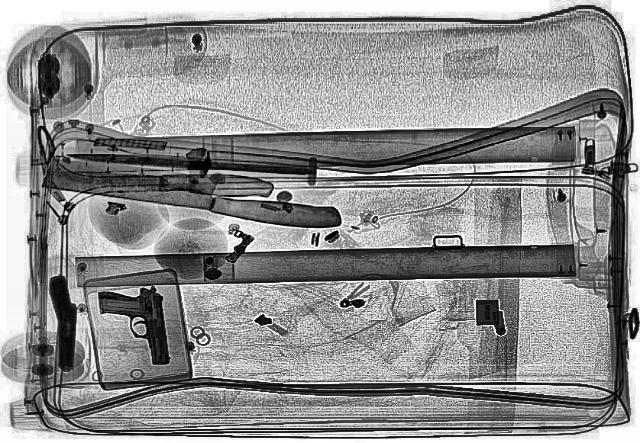Gun: (96, 283, 172, 366), (46, 274, 82, 372)
Knife: (36, 153, 350, 233), (58, 146, 312, 176), (49, 166, 274, 196)
